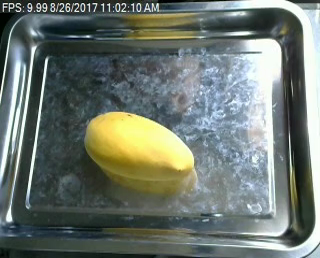Mango: (82, 107, 205, 183)
